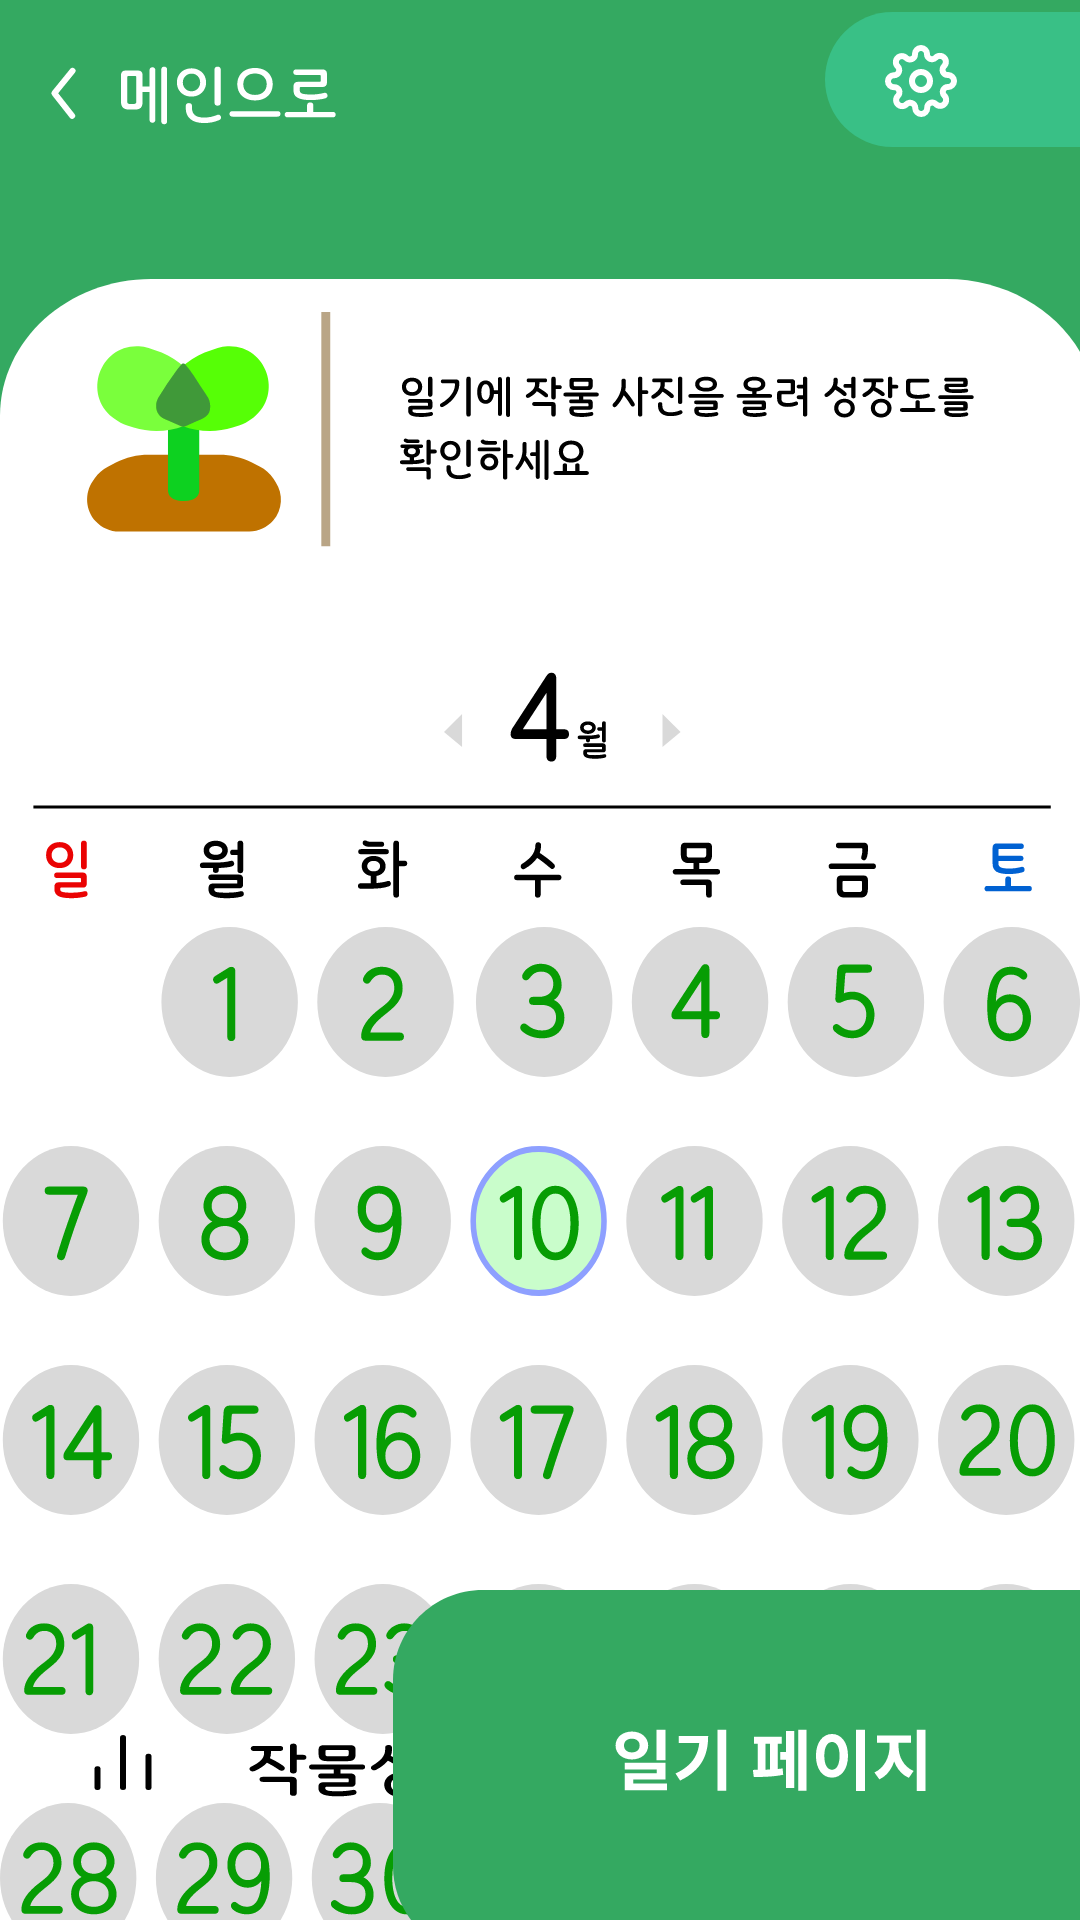

Screen size 1080x1920. Icon name, then its box in pixels as bbox=[x1, y1, x2, y2]:
diary setting: bbox=[825, 12, 1080, 147]
